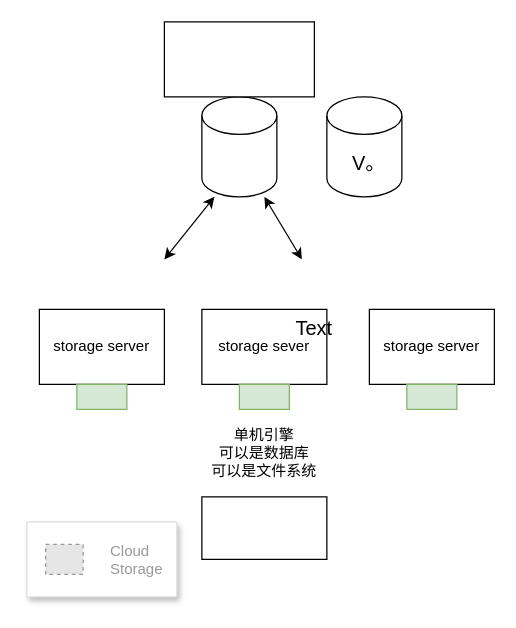
This 516x628 diagram has some shape labels left out. Grey dashed boxes stand in for pictures. The shapes that lost their labels are listed below. From the top down, each one's centre as x and y in pixels, then its label:
At pixel 238 59: "主机APP".
At pixel 239 146: "volume".
